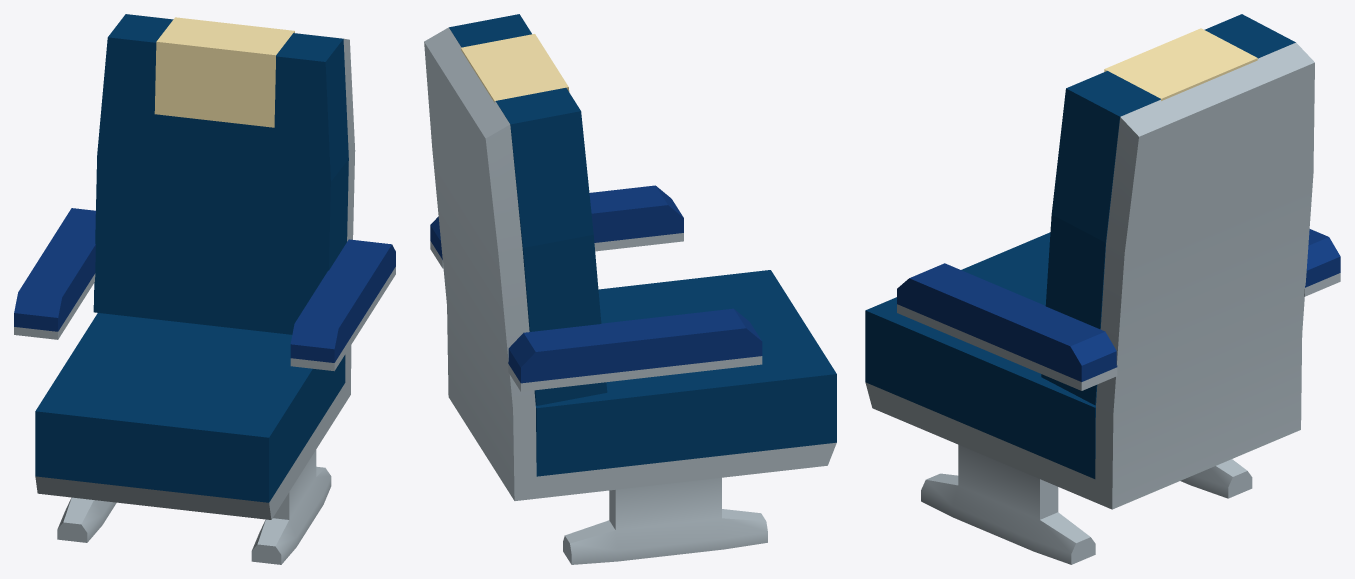
Rendered from seat.gltf.
3 views of the same model, side by side, from view 1: azimuth 30°, elevation 25°; view 2: azimuth 150°, elevation 25°; view 3: azimuth 270°, elevation 25° (orthographic). The views are drawn at different scales.
Visible parts, largest first — view 1: Cube.852; view 2: Cube.852; view 3: Cube.852.
Part boxes in pixels (left/top/right/bottom): Cube.852: left=14, top=14, right=395, bottom=564; Cube.852: left=424, top=14, right=836, bottom=564; Cube.852: left=865, top=14, right=1340, bottom=564.
Bounding box in the file's own units: 1.96 × 2.16 × 1.96.
1 material, 1 textured.
